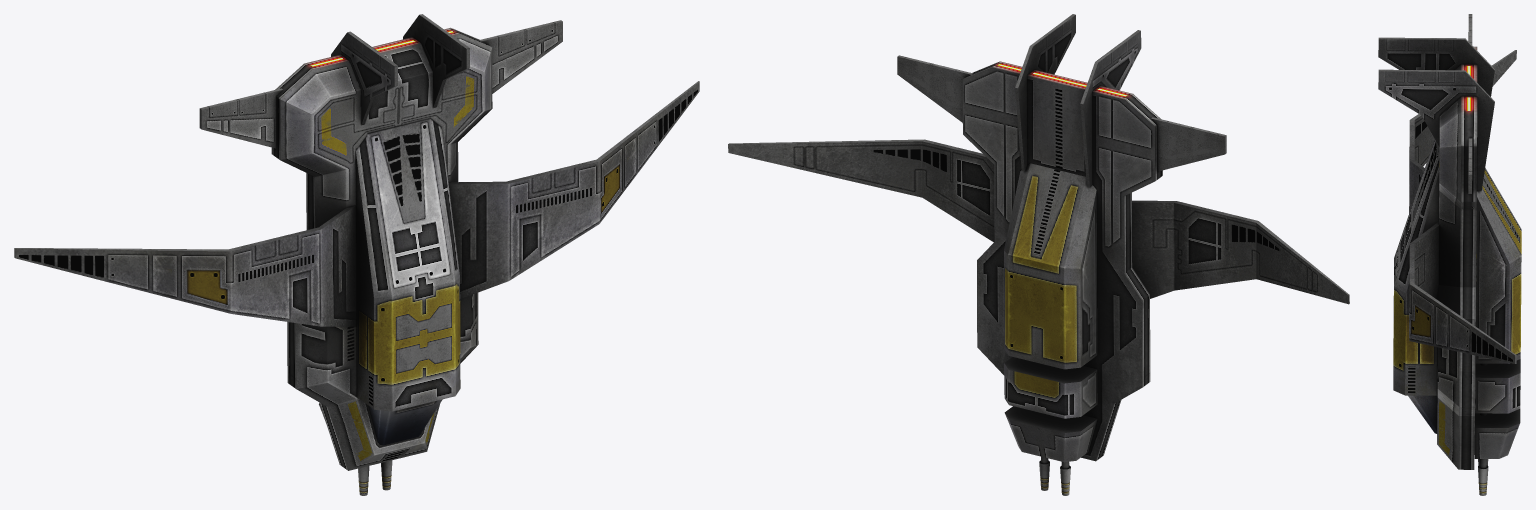
The model's file is gunship_yellow.fbx.
3 renders of one model, left to right at view 1: azimuth 30°, elevation 25°; view 2: azimuth 150°, elevation 25°; view 3: azimuth 270°, elevation 25°, orthographic. The views are drawn at different scales.
Visible parts, largest first — view 1: Gun_Ship; view 2: Gun_Ship; view 3: Gun_Ship.
Part boxes in pixels (box(x1,y1,x2,y2)): Gun_Ship: box(14, 14, 699, 495); Gun_Ship: box(728, 14, 1349, 495); Gun_Ship: box(1378, 14, 1521, 495).
Bounding box in the file's own units: 345 × 230 × 68.46.
